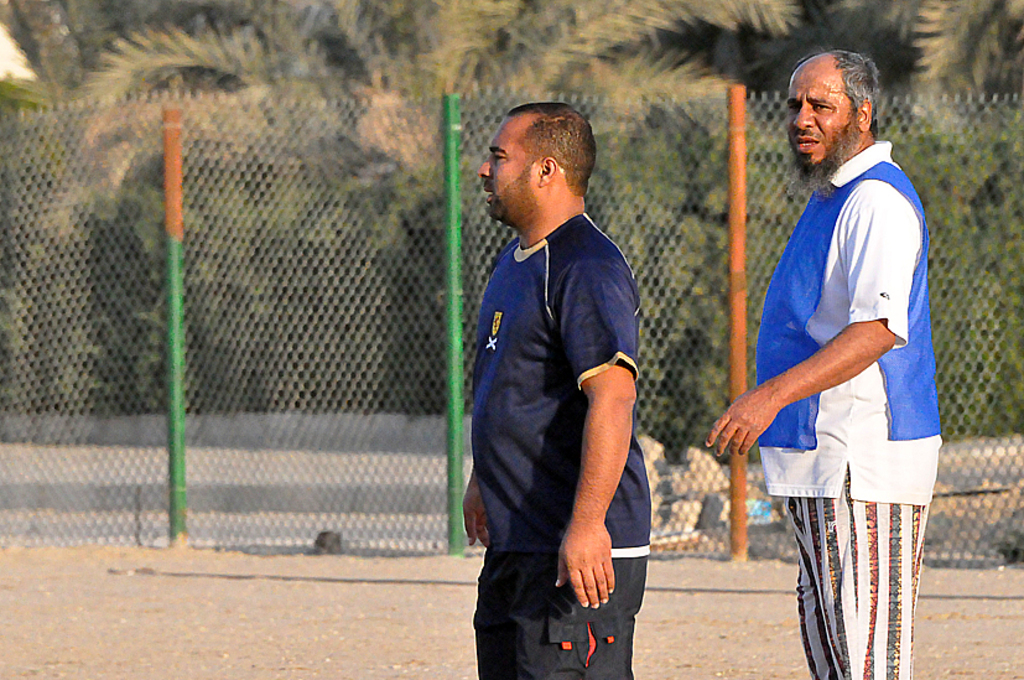Human_hand: (700, 390, 783, 460), (555, 513, 615, 607), (462, 479, 493, 550)
